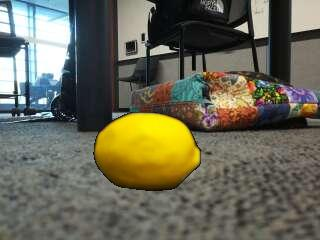lemon: (95, 113, 200, 190)
